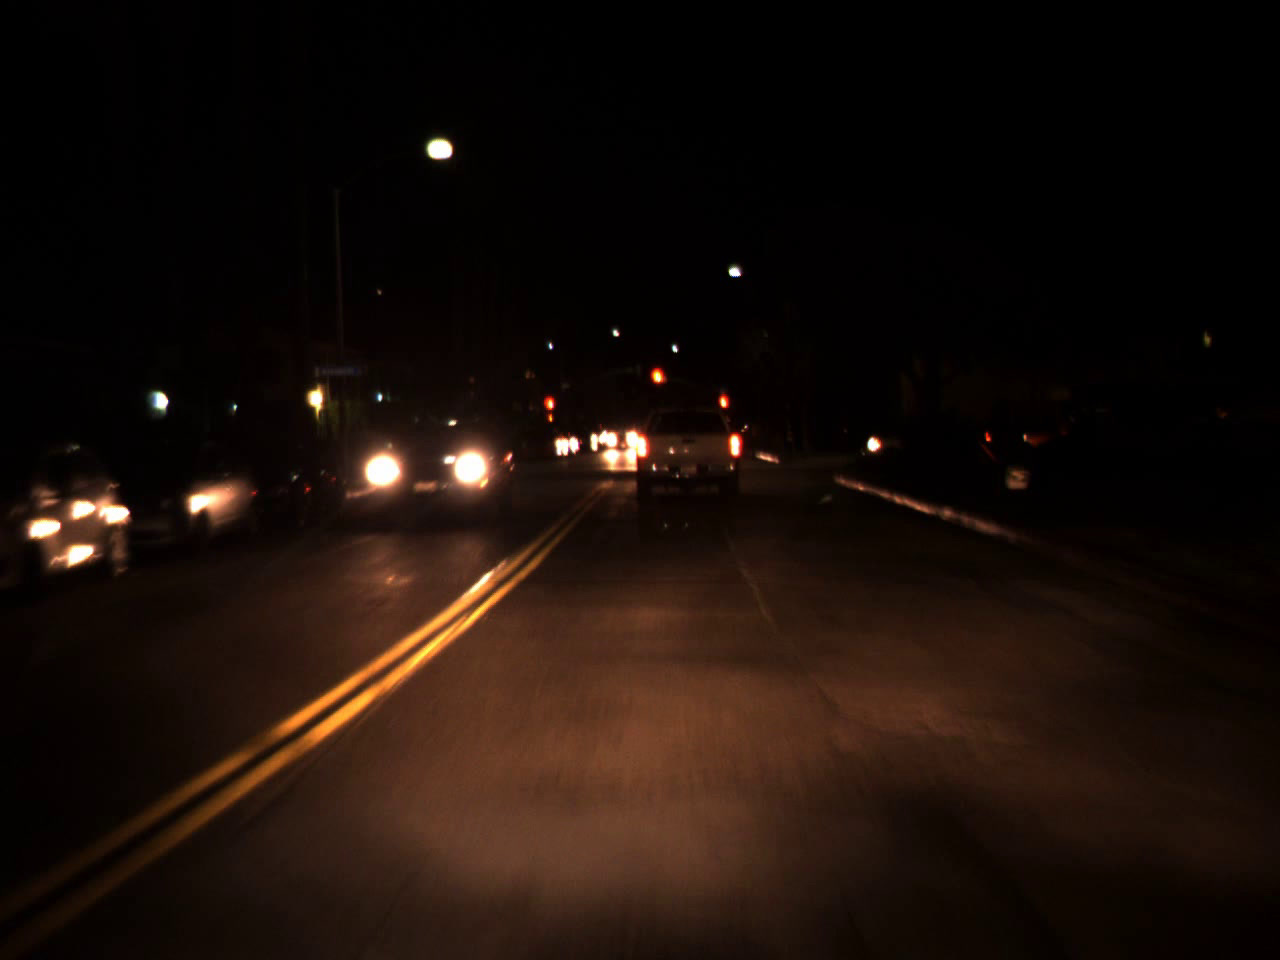stop: (649, 365, 667, 402), (541, 395, 556, 427), (719, 393, 729, 425)
